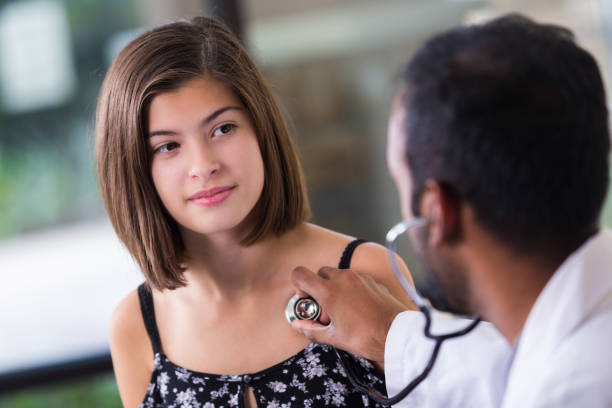face: (146, 98, 264, 235)
